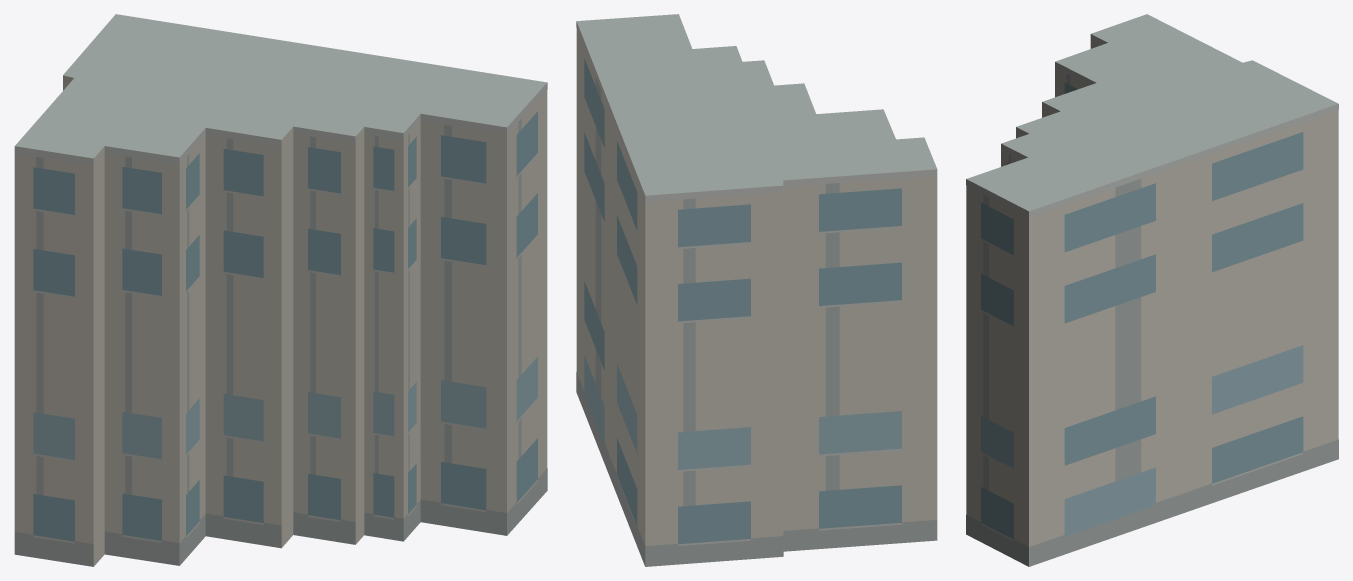
Rendered from survey-upis-32805122.glb.
3 views of the same model, side by side, from view 1: azimuth 30°, elevation 25°; view 2: azimuth 150°, elevation 25°; view 3: azimuth 270°, elevation 25° (orthographic). The views are drawn at different scales.
Visible parts, largest first — view 1: survey-upis-32805122.tmp; view 2: survey-upis-32805122.tmp; view 3: survey-upis-32805122.tmp.
Boxes of the visible parts, x1=… form: survey-upis-32805122.tmp: x1=14, y1=14, x2=547, y2=566; survey-upis-32805122.tmp: x1=576, y1=14, x2=937, y2=566; survey-upis-32805122.tmp: x1=966, y1=14, x2=1338, y2=566.
Size of the model in its own units: 16.57 by 13.9 by 13.21.
